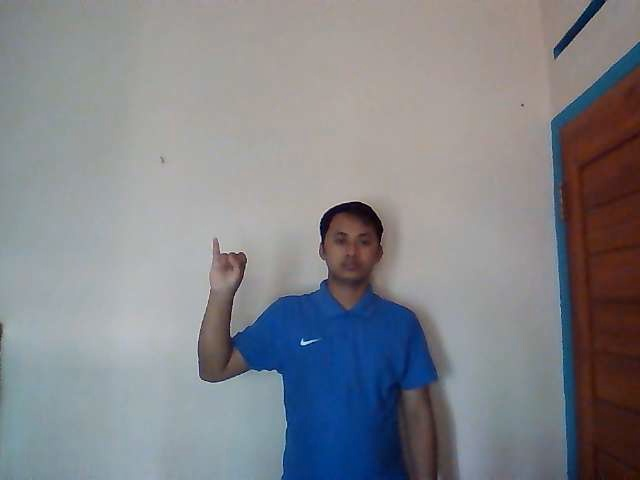I: (208, 236, 247, 294)
